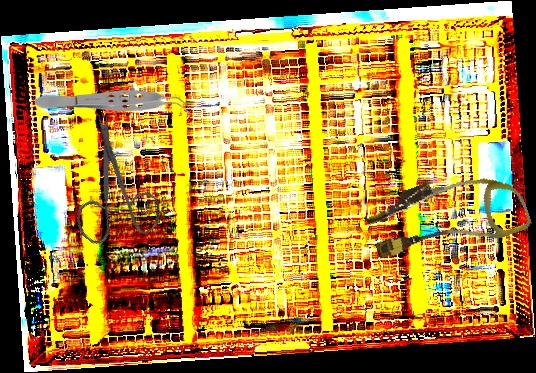Cannula: (361, 154, 534, 278)
Iris Scissors: (30, 109, 190, 267)
Tissue Forceps: (35, 90, 191, 115)
